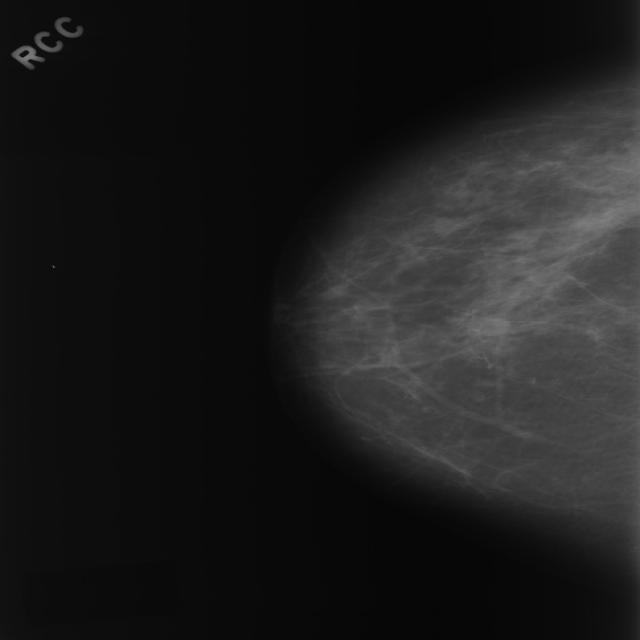tumour: (431, 214, 462, 237)
